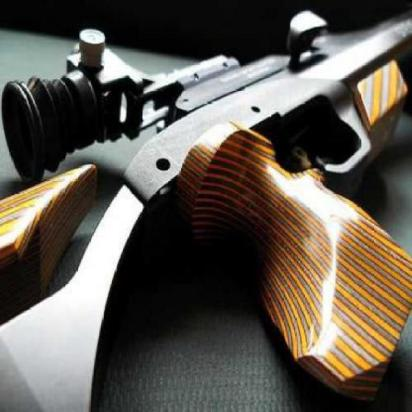Gun: (0, 0, 406, 411)
